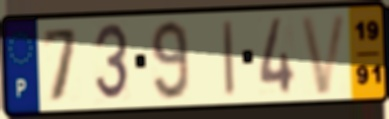3: (91, 20, 131, 106)
4: (257, 15, 298, 97)
7: (41, 25, 81, 104)
9: (149, 18, 192, 104)
I: (221, 17, 237, 99)
V: (297, 11, 351, 98)
